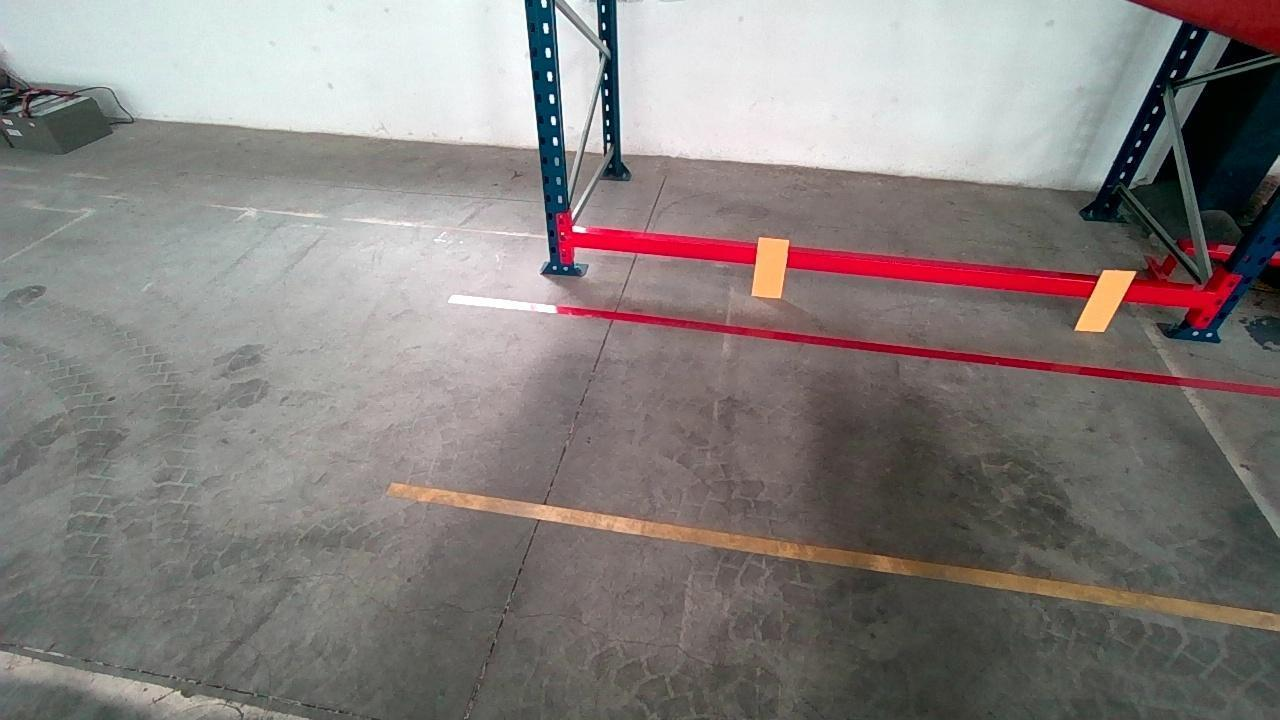h_rack: (571, 232, 1210, 309)
orange_strip: (1076, 269, 1139, 331), (753, 238, 787, 296)
red_line: (446, 290, 1280, 400)
yellow_line: (387, 482, 1280, 629)
